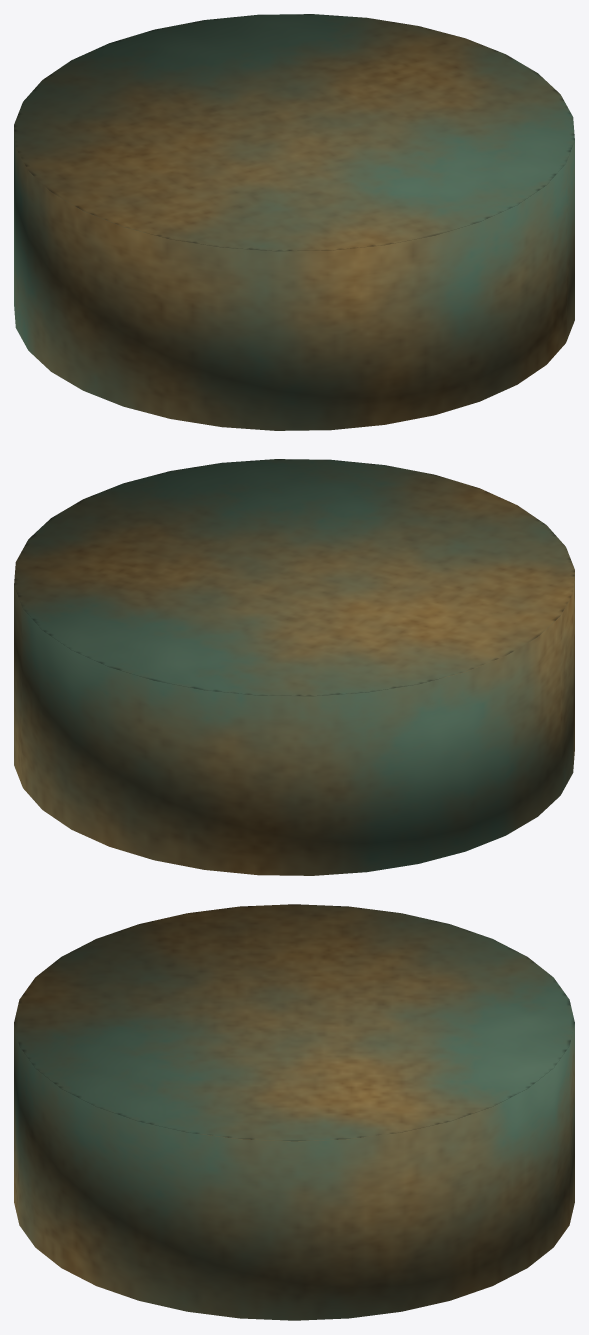
File: Column bronze collar__n24.glb
3 renders of one model, top to bottom at view 1: azimuth 30°, elevation 25°; view 2: azimuth 150°, elevation 25°; view 3: azimuth 270°, elevation 25°, orthographic.
Visible parts, largest first — view 1: Column bronze collar; view 2: Column bronze collar; view 3: Column bronze collar.
Part boxes in pixels (bbox=[...]): Column bronze collar: bbox=[14, 14, 574, 430]; Column bronze collar: bbox=[14, 459, 574, 875]; Column bronze collar: bbox=[14, 904, 574, 1320].
Bounding box in the file's own units: 0.51 × 0.18 × 0.51.
1 material, 1 textured.
